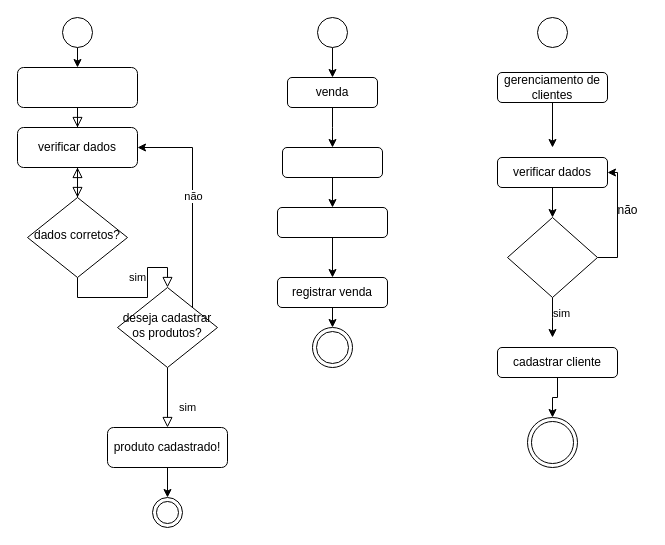
Some shapes in this 665 by 545 pixel diagram are drawn without their labels. The centre of each missing label's shape, as x and y in pixels:
"cadastro de produtos" belongs at (77,87).
"calcular total" belongs at (332,222).
"dados corretos" belongs at (552,257).
"escolher produtos" belongs at (332,162).
